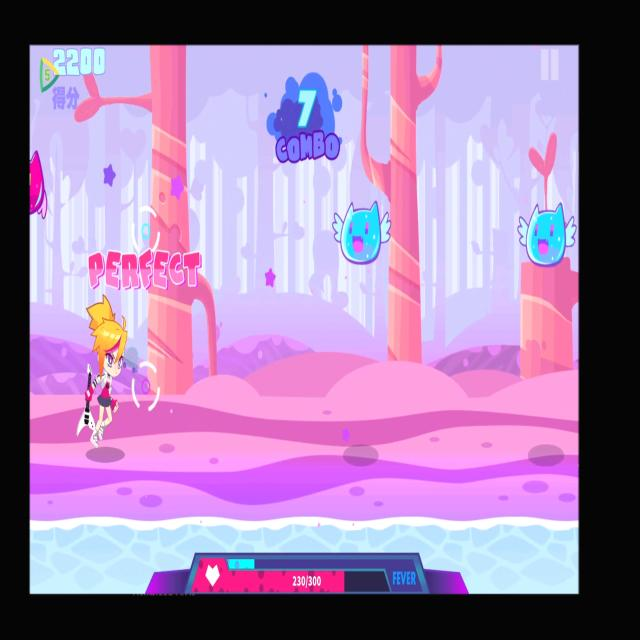Sky Monster - Blue Devil: (513, 187, 577, 276), (332, 190, 392, 266)
